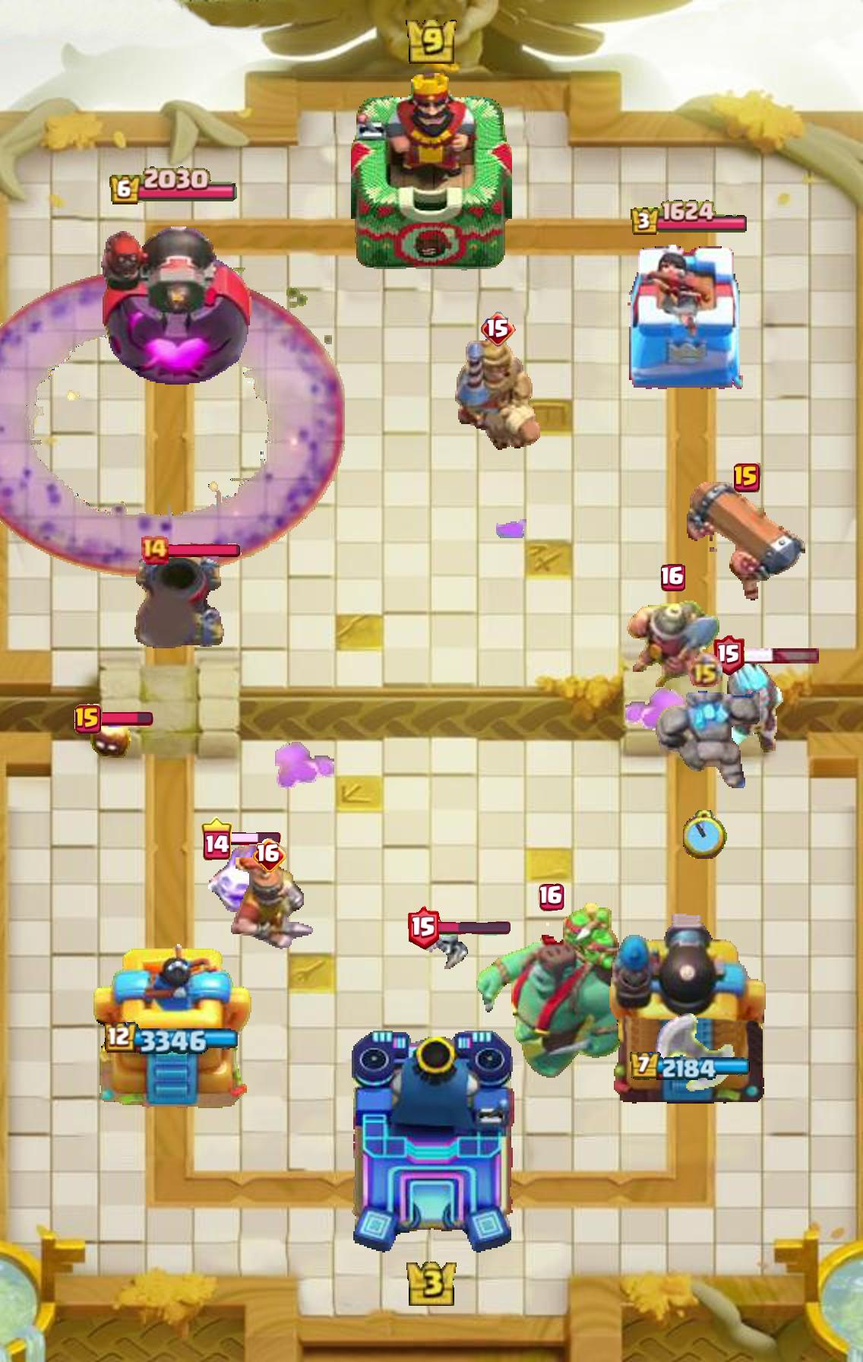bar: (741, 648, 820, 664), (437, 920, 511, 936), (166, 543, 242, 558), (99, 711, 153, 727), (229, 833, 281, 846)
bar-level: (408, 906, 440, 951), (202, 816, 233, 860), (713, 635, 744, 675), (481, 312, 516, 347), (252, 839, 287, 873), (139, 535, 169, 565), (733, 462, 762, 493), (537, 883, 566, 912), (74, 704, 102, 734), (661, 564, 685, 591)
